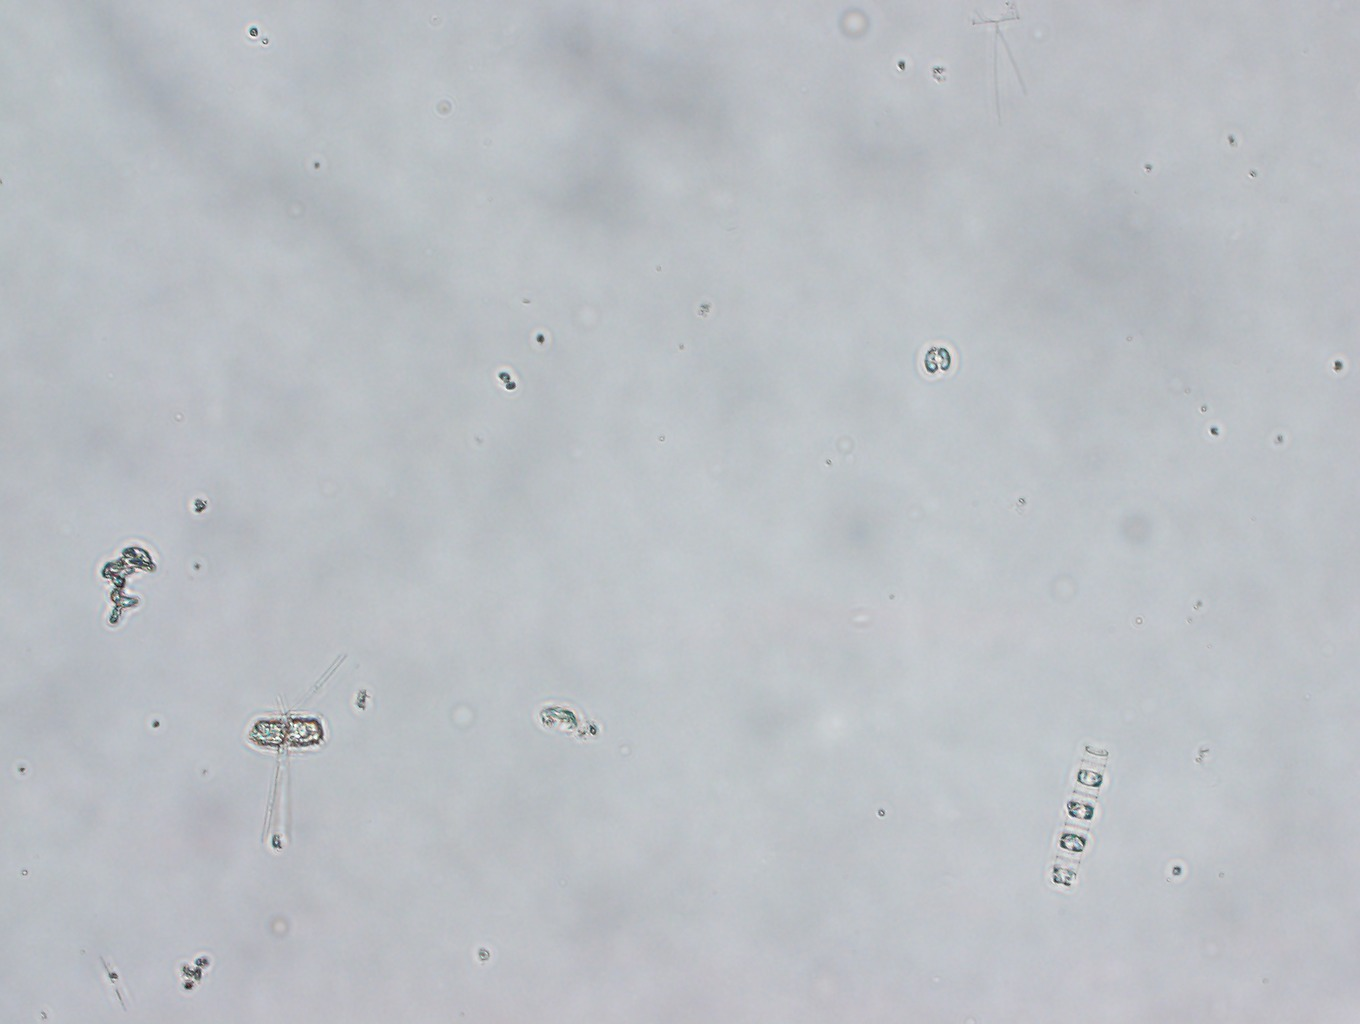skeletonema: (1025, 729, 1116, 909)
